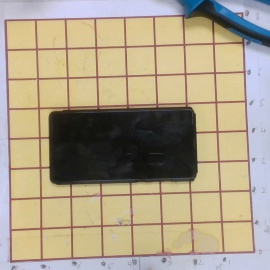phone: (48, 107, 199, 183)
